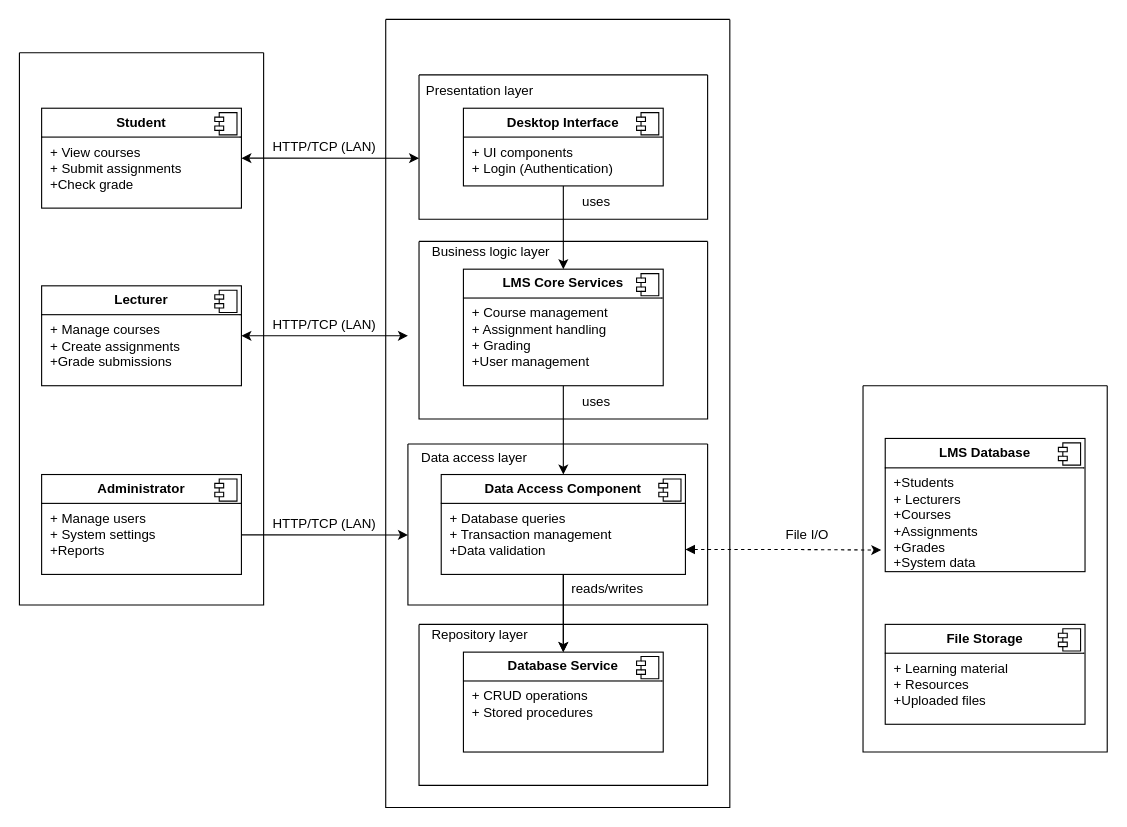
This 1127x827 diagram has some shape labels left out. The shapes that lost their labels are listed below. From the top down, each one's centre as x and y in pixels, then its label:
the point at 141,328: Client machines (school LAN)
the point at 557,413: LMS Server
the point at 984,568: Local Repository
